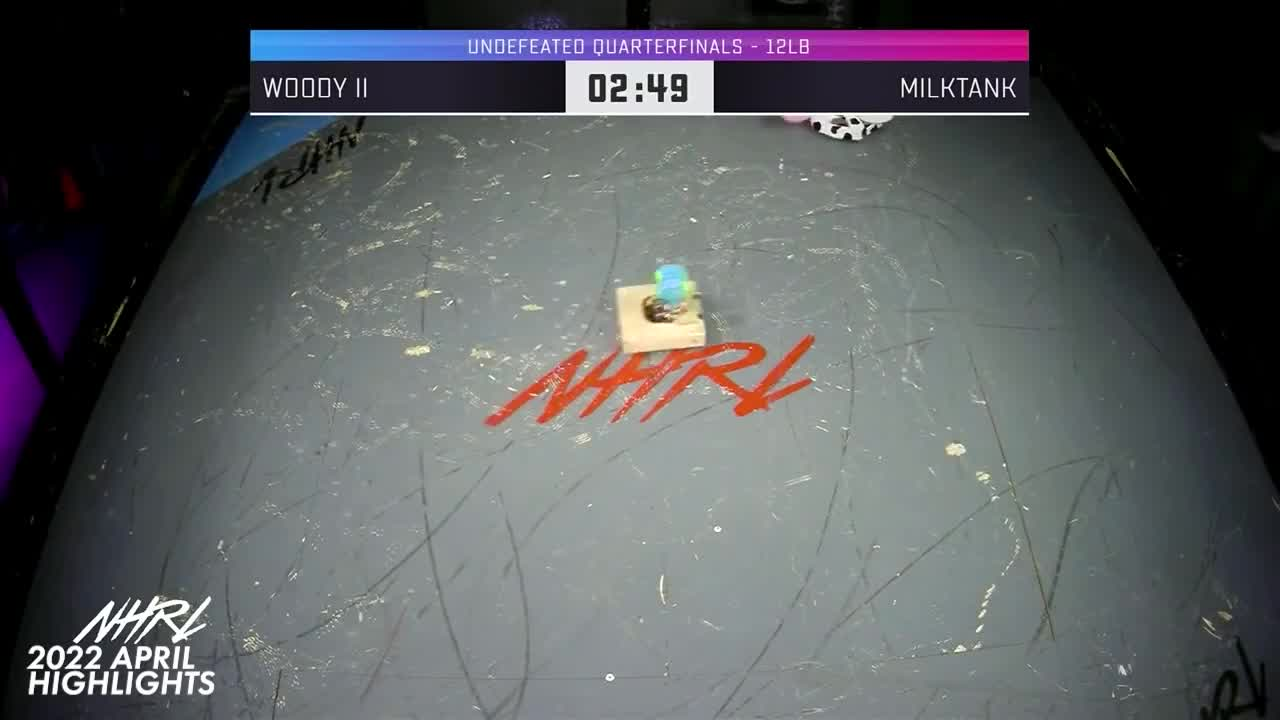combatbot: (614, 267, 707, 354), (779, 115, 892, 140)
